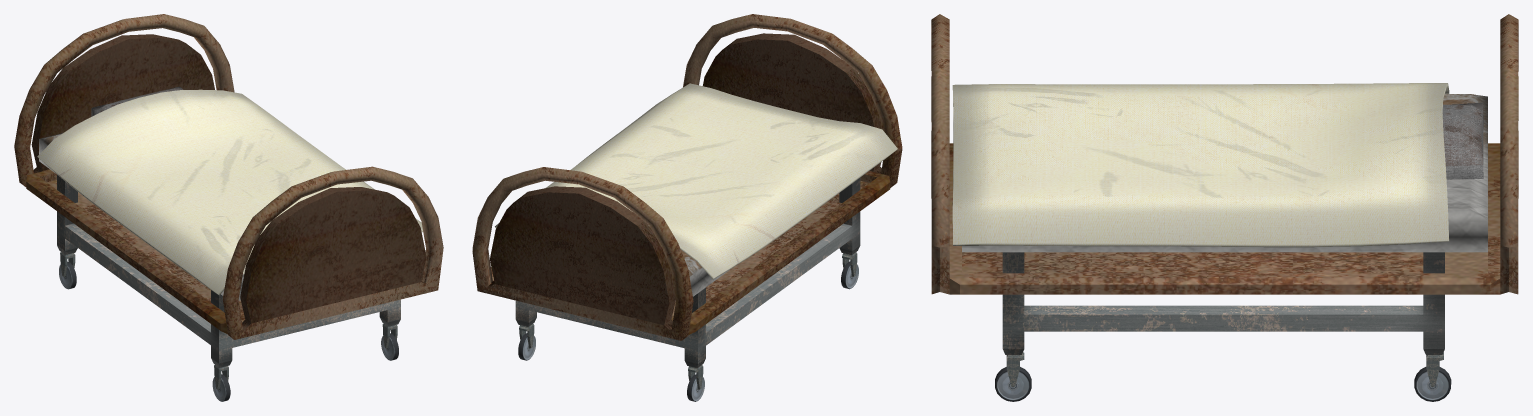
File: SupersizedBed.fbx
The picture shows the model from 3 angles, left to right: view 1: azimuth 30°, elevation 25°; view 2: azimuth 150°, elevation 25°; view 3: azimuth 270°, elevation 25°; orthographic projection. The views are drawn at different scales.
Visible parts, largest first — view 1: polySurface226; view 2: polySurface226; view 3: polySurface226.
Part boxes in pixels (<box>): polySurface226: <box>14,14,443,401</box>; polySurface226: <box>472,14,902,401</box>; polySurface226: <box>931,14,1518,401</box>.
Bounding box in the file's own units: 22.43 × 21.63 × 37.05.
